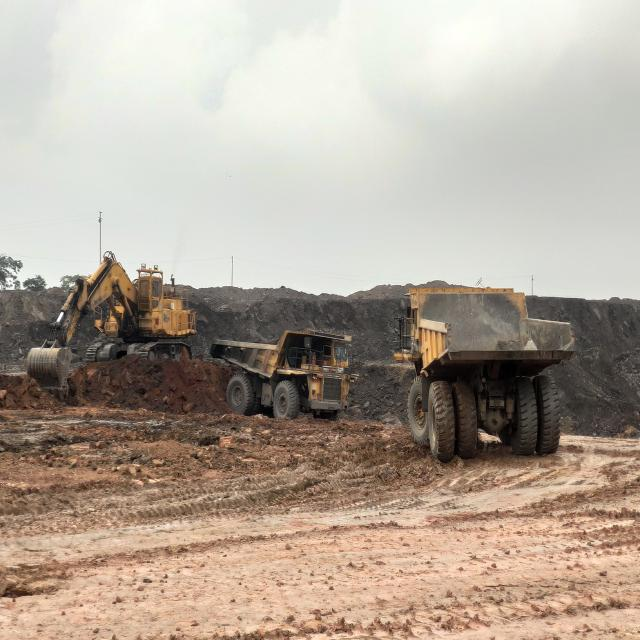dump_truck: (395, 282, 576, 464), (210, 329, 354, 415)
excavator: (26, 252, 196, 393)
